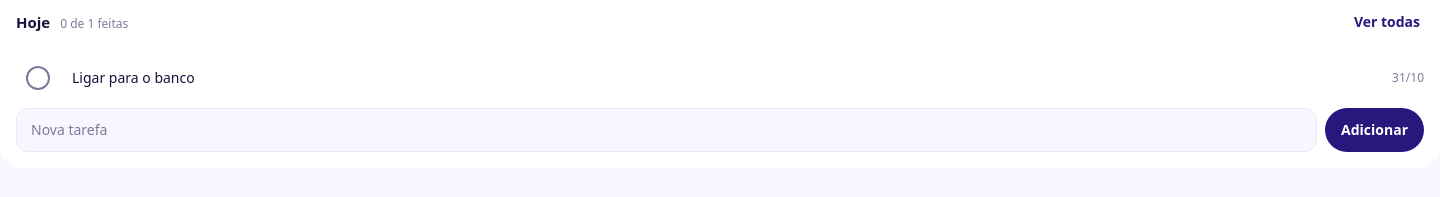
TarefasDeHoje › erroSemCorpoAoConcluirMostraMensagemPadrao
Click the button named "Marcar como feita: Ligar para o banco" at [38, 78], box [16, 56, 60, 100]
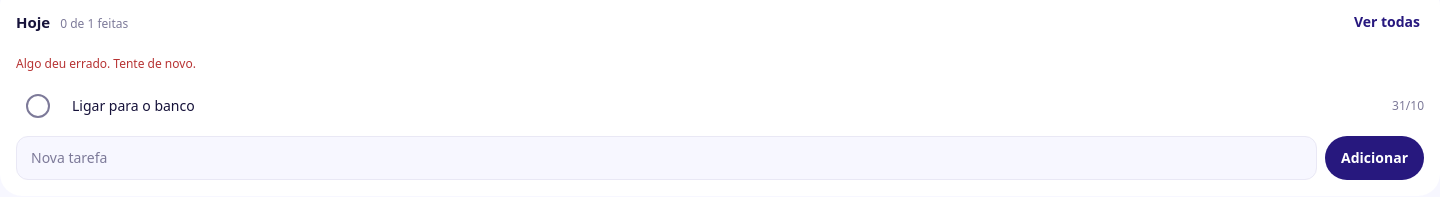
Now the message reads "Algo deu errado. Tente de novo.", box [16, 55, 196, 72]
